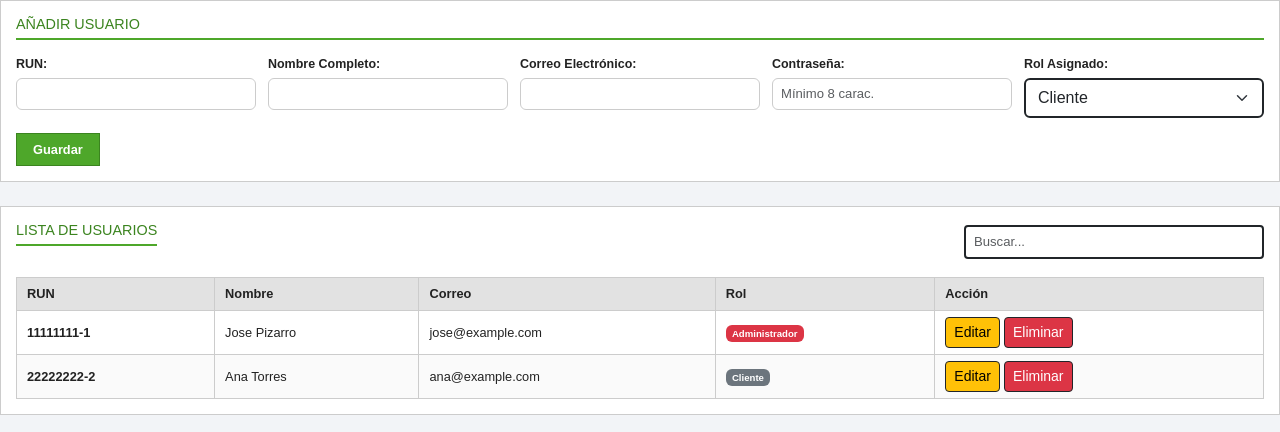
Test: GestionUsuarios › busca usuarios por nombre
Type "ana" into the field with placeholder "Buscar..." at (1114, 242), box [964,225,1264,259]
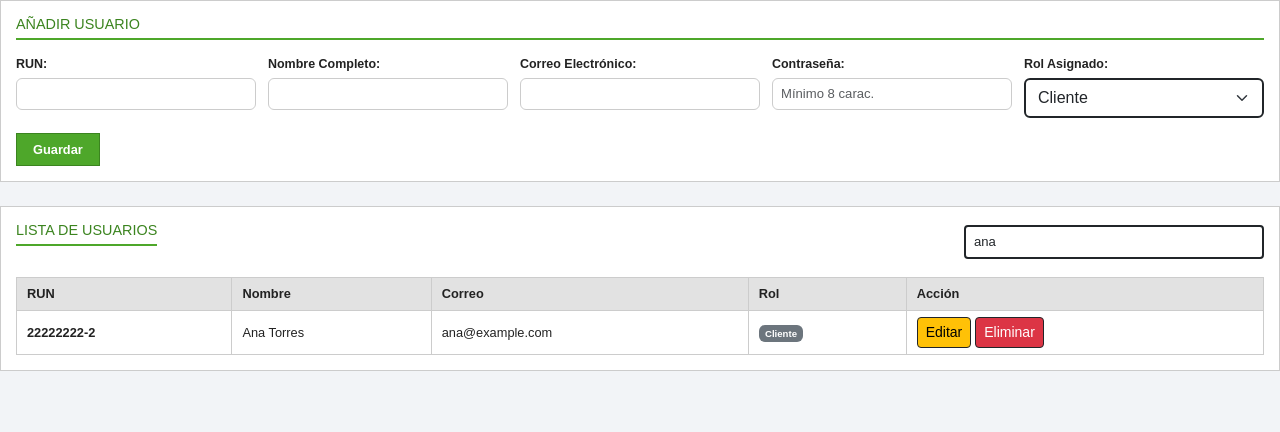
Expected: the text "Ana Torres" is shown, [232,310,431,354]
Expected: the text "Jose Pizarro" is gone
